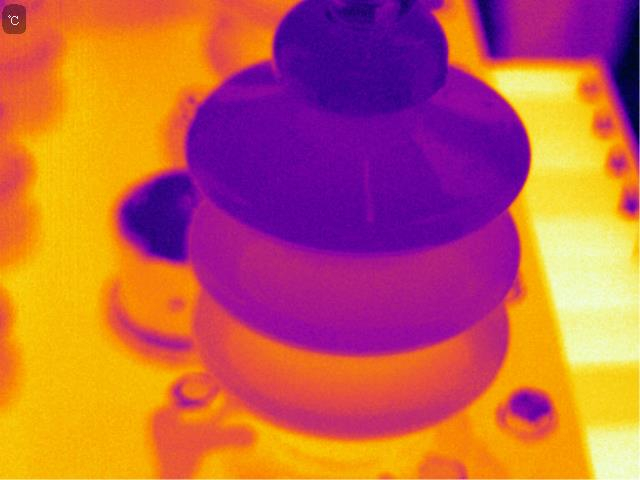Oil: (408, 128, 520, 227), (434, 64, 522, 131), (215, 52, 288, 103), (358, 156, 382, 228)
